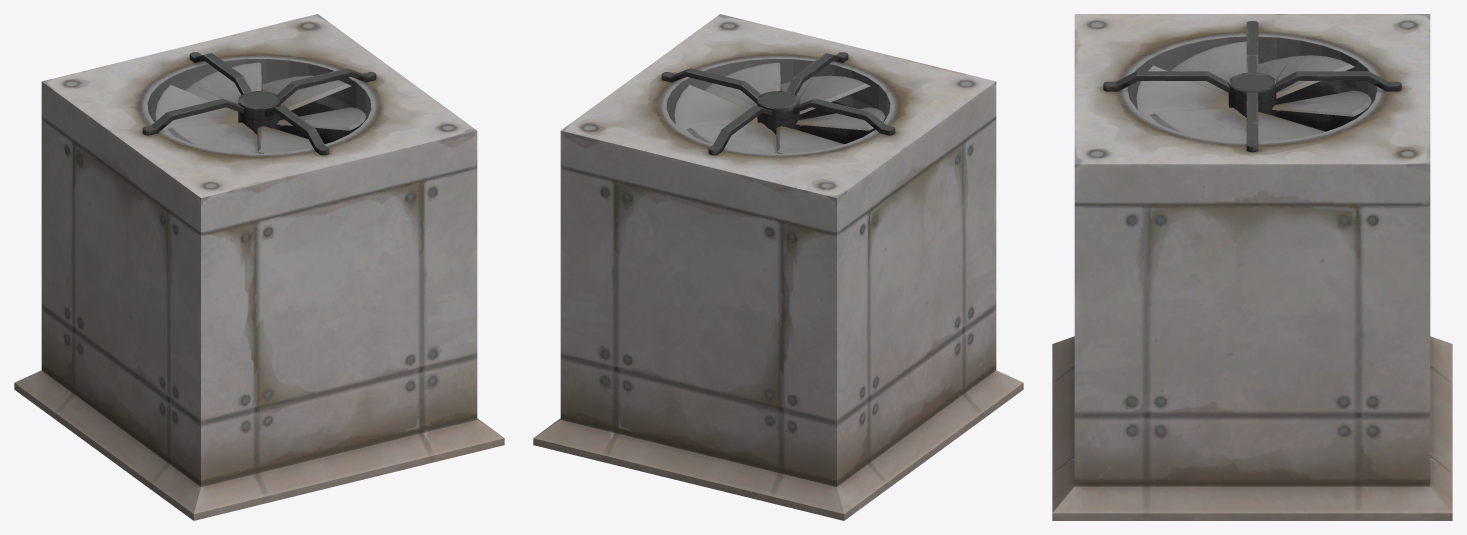
The model's file is P_Facility_00169.obj.
The picture shows the model from 3 angles, left to right: view 1: azimuth 30°, elevation 25°; view 2: azimuth 150°, elevation 25°; view 3: azimuth 270°, elevation 25°; orthographic projection. The views are drawn at different scales.
Bounding box in the file's own units: 1.6 × 1.6 × 1.6.
1 material, 1 textured.
